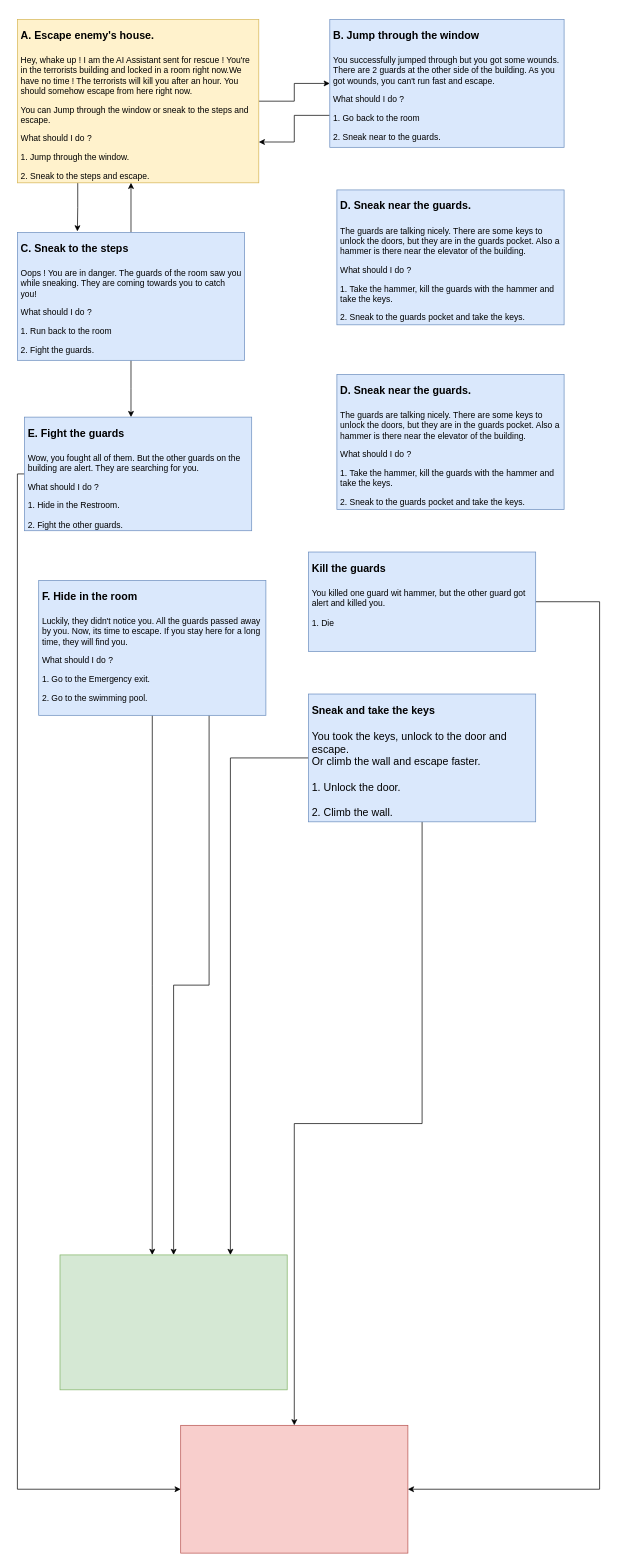
This 618x1566 diagram has some shape labels left out. Here are the shapes that lost their labels. From the top down, the centre of each, then its label:
At pixel 173 1322: "Escape You successfully escaped from the building, congratulations.".
At pixel 294 1489: "GAME OVER ! Oh sadly, the guards killed you. But, you played well !".
